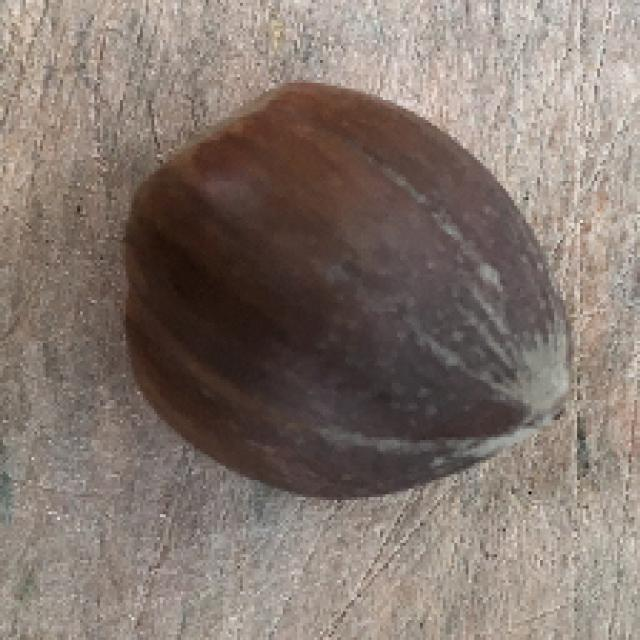qualityHazelnut: (112, 80, 570, 510)
